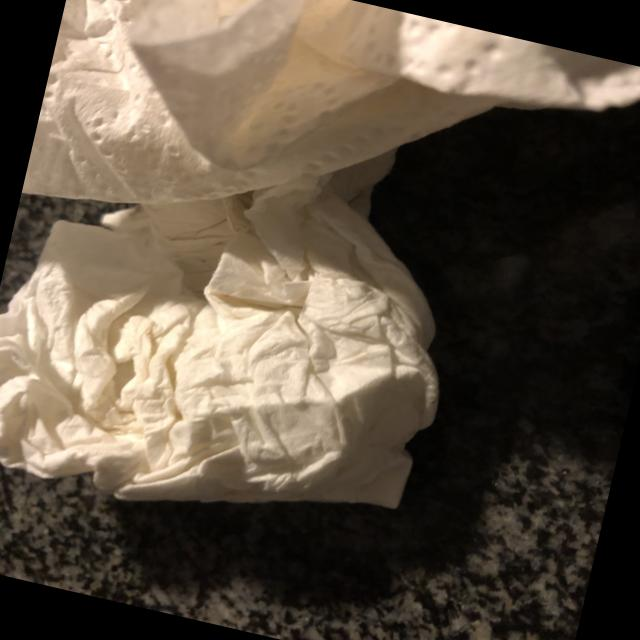organic waste: (0, 61, 498, 566), (21, 0, 640, 328)
